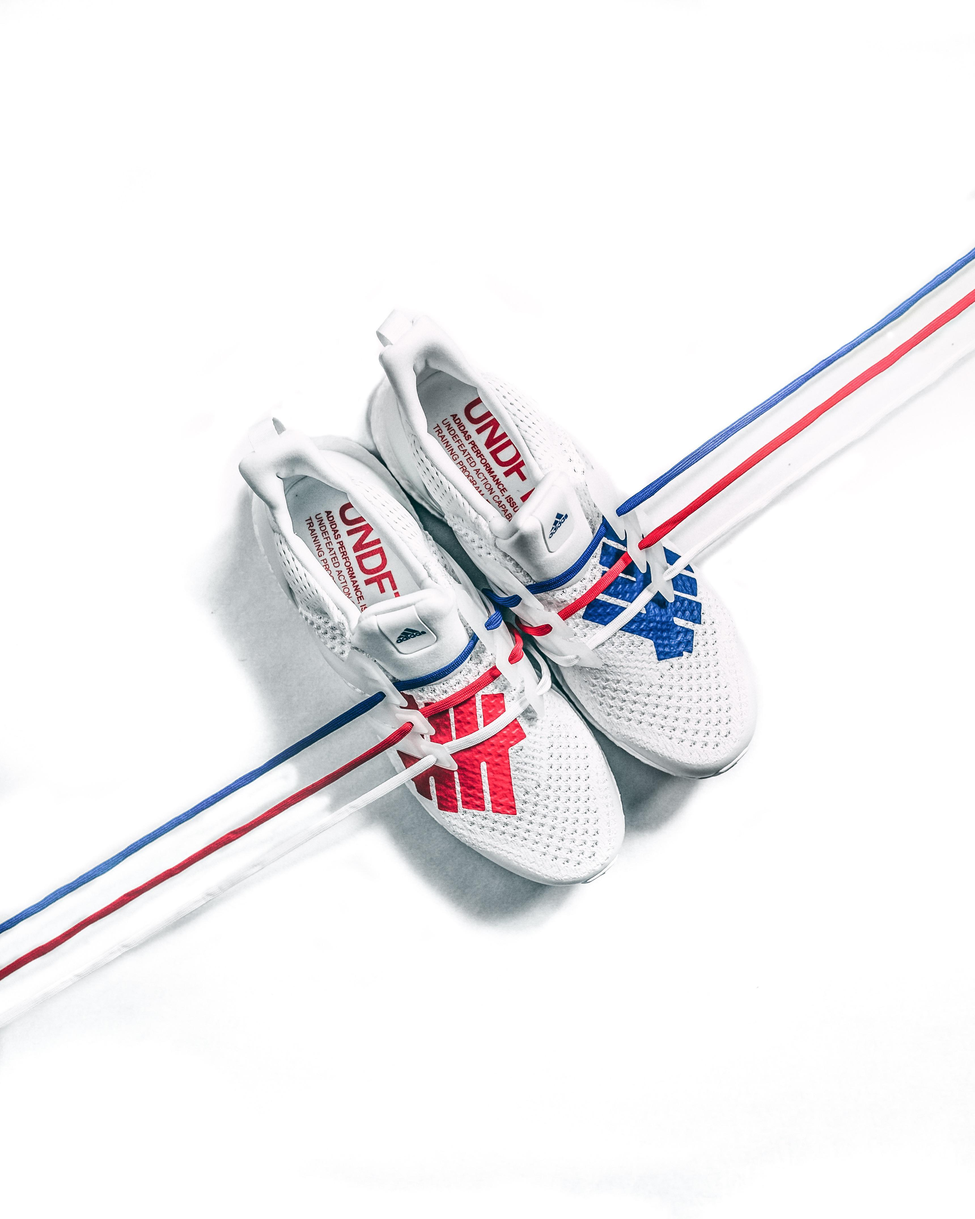sneaker: (330, 300, 797, 802), (215, 412, 650, 909)
